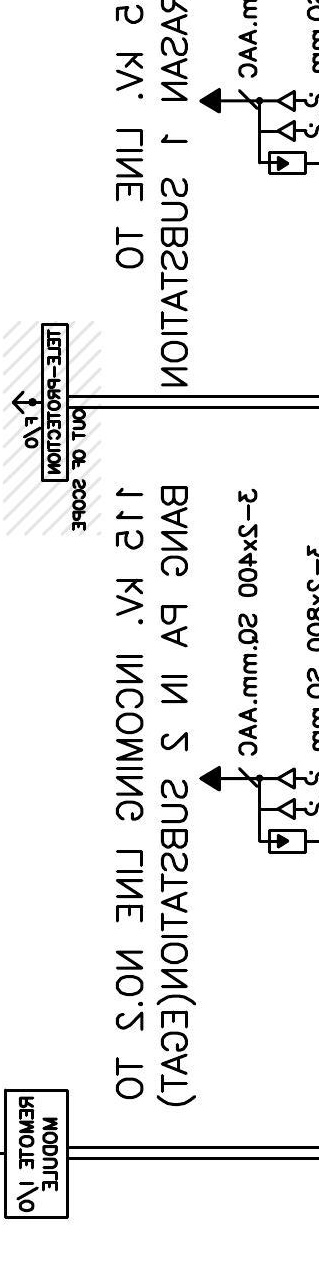remote_io_module: (4, 1088, 69, 1219)
tele_protection: (40, 322, 70, 483)
terminator_double: (257, 88, 297, 143), (257, 766, 297, 821)
